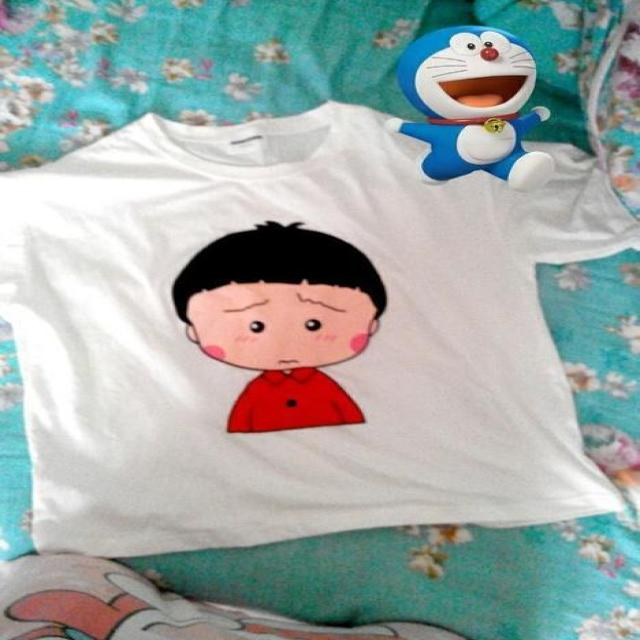short sleeve top: (3, 105, 639, 562)
